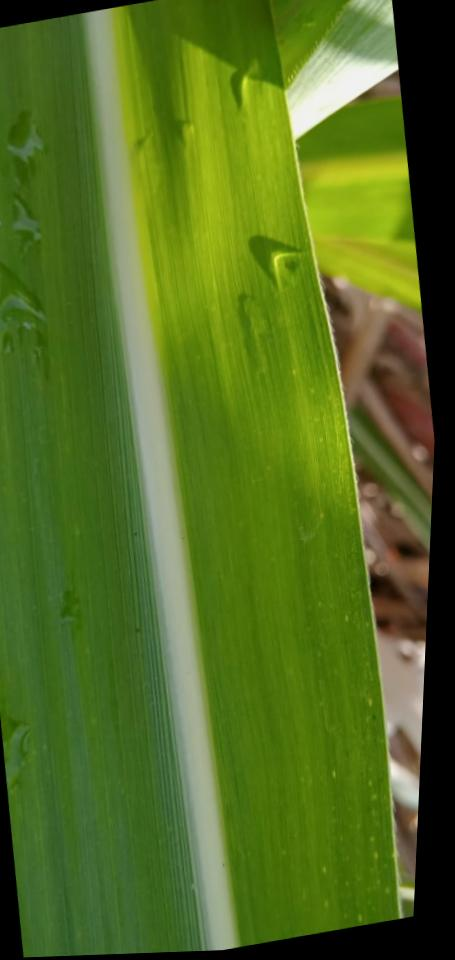Healthy: (0, 0, 399, 958)
